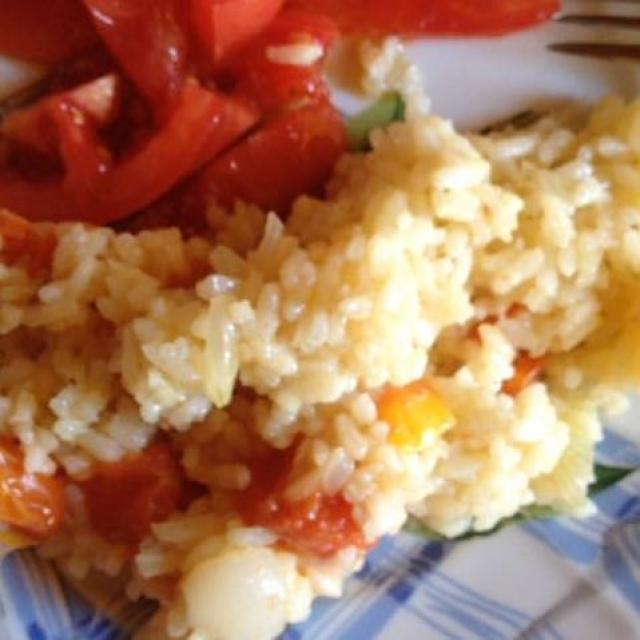risotto: (9, 102, 630, 636)
tomato: (2, 12, 537, 227)
